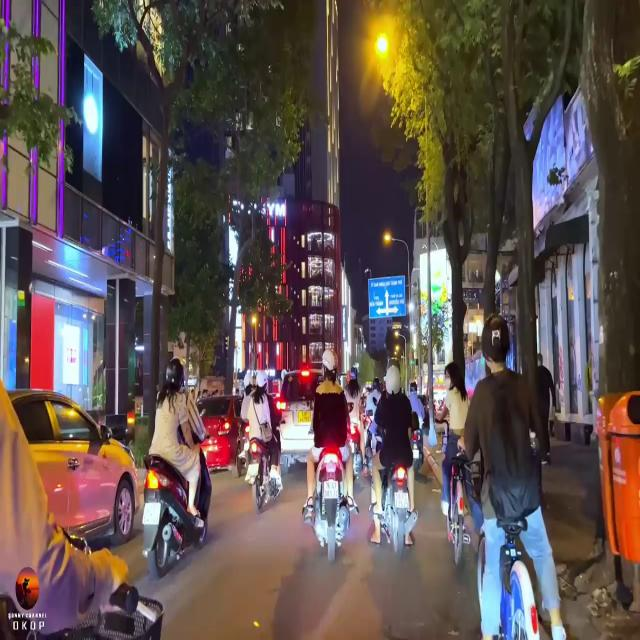bien_trang: (322, 477, 341, 504), (393, 490, 413, 512)
